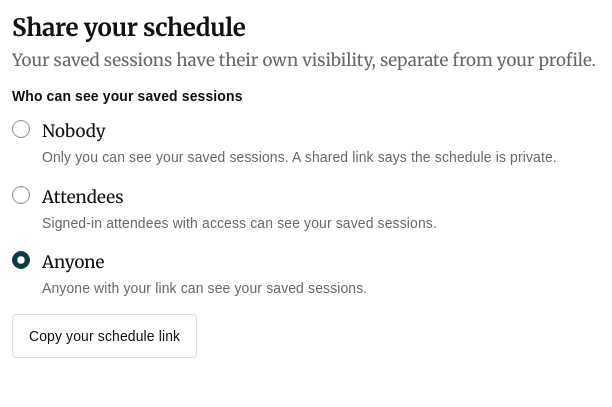
ShareSchedule › a refusal from the server is stated, not swallowed
This screenshot has width=612, height=407.
Click the radio button labelled "Nobody" at (21, 129), box [12,120,30,138]
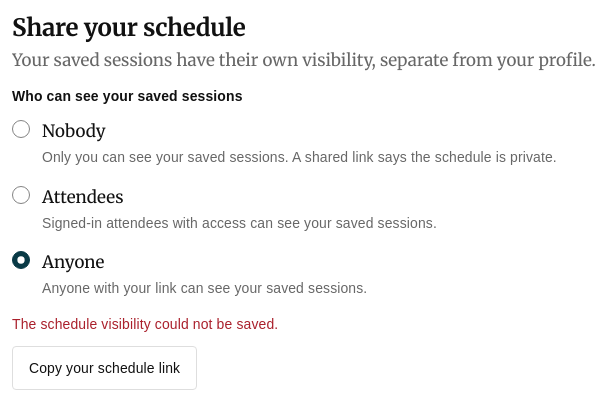
Result: the message reads "The schedule visibility could not be saved." at [12,316,278,332]
